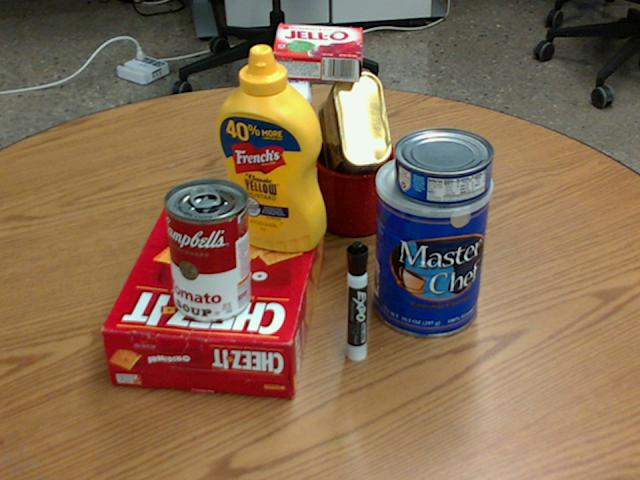cracker_box: (102, 200, 325, 398)
gelatin_box: (269, 25, 362, 82)
large_marker: (345, 241, 368, 361)
master_chef_can: (371, 150, 491, 336)
mug: (313, 133, 416, 235)
mustard_bottle: (214, 44, 324, 250)
potted_meat_can: (317, 73, 391, 189)
sugar_box: (267, 57, 311, 246)
tomato_soup_can: (163, 178, 251, 321)
tuna_fish_can: (393, 127, 493, 205)
